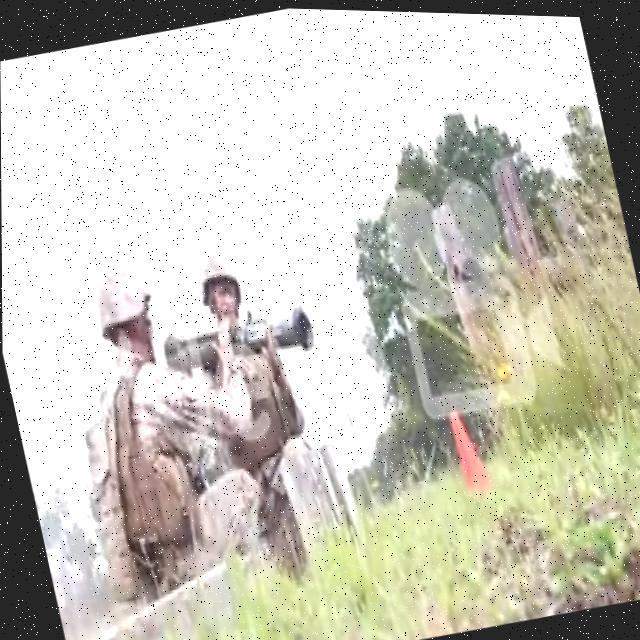rocket: (160, 295, 314, 380)
